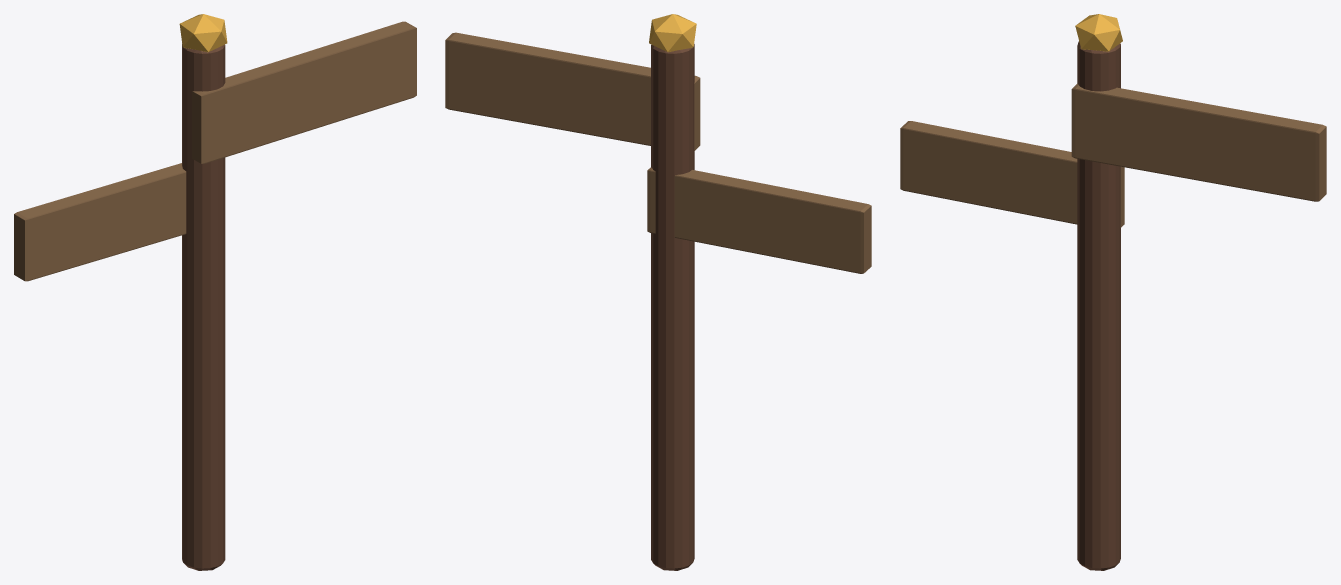
Rendered from signpost.glb.
3 renders of one model, left to right at view 1: azimuth 30°, elevation 25°; view 2: azimuth 150°, elevation 25°; view 3: azimuth 330°, elevation 25°, orthographic.
Visible parts, largest first — view 1: sp_post, sp_f1, sp_f2, sp_cap; view 2: sp_post, sp_f1, sp_f2, sp_cap; view 3: sp_f1, sp_post, sp_f2, sp_cap.
Boxes of the visible parts, x1,y1,x2,y2 form: sp_post: [182, 44, 225, 570]; sp_f1: [192, 21, 416, 163]; sp_f2: [14, 163, 186, 281]; sp_cap: [179, 14, 227, 52]; sp_post: [651, 44, 694, 570]; sp_f1: [445, 32, 700, 150]; sp_f2: [647, 167, 871, 273]; sp_cap: [649, 14, 696, 52]; sp_f1: [1071, 83, 1326, 201]; sp_post: [1077, 41, 1120, 570]; sp_f2: [900, 121, 1124, 227]; sp_cap: [1075, 14, 1122, 51].
Bounding box in the file's own units: 1.22 × 1.58 × 0.1319.
